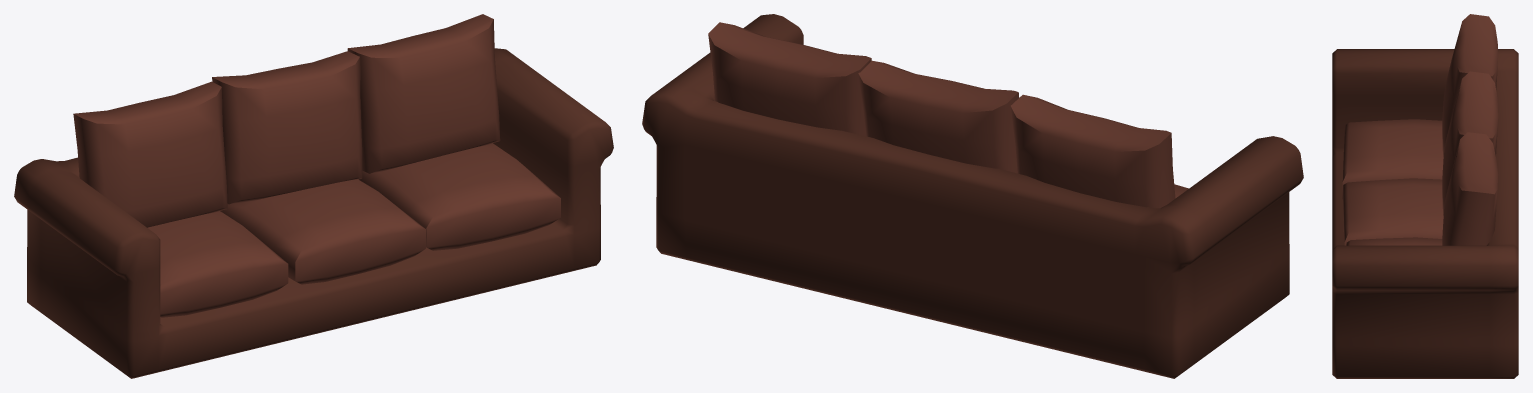
Rendered from Couch_Large1.glb.
The picture shows the model from 3 angles, left to right: view 1: azimuth 30°, elevation 25°; view 2: azimuth 150°, elevation 25°; view 3: azimuth 270°, elevation 25°; orthographic projection. The views are drawn at different scales.
Parts seen in each view (by area): view 1: Couch_Large1; view 2: Couch_Large1; view 3: Couch_Large1.
Part boxes in pixels (x1,y1,x2,y2): Couch_Large1: (14,14,613,378); Couch_Large1: (642,14,1303,378); Couch_Large1: (1332,14,1518,378).
Bounding box in the file's own units: 1.64 × 0.6319 × 0.5977.
